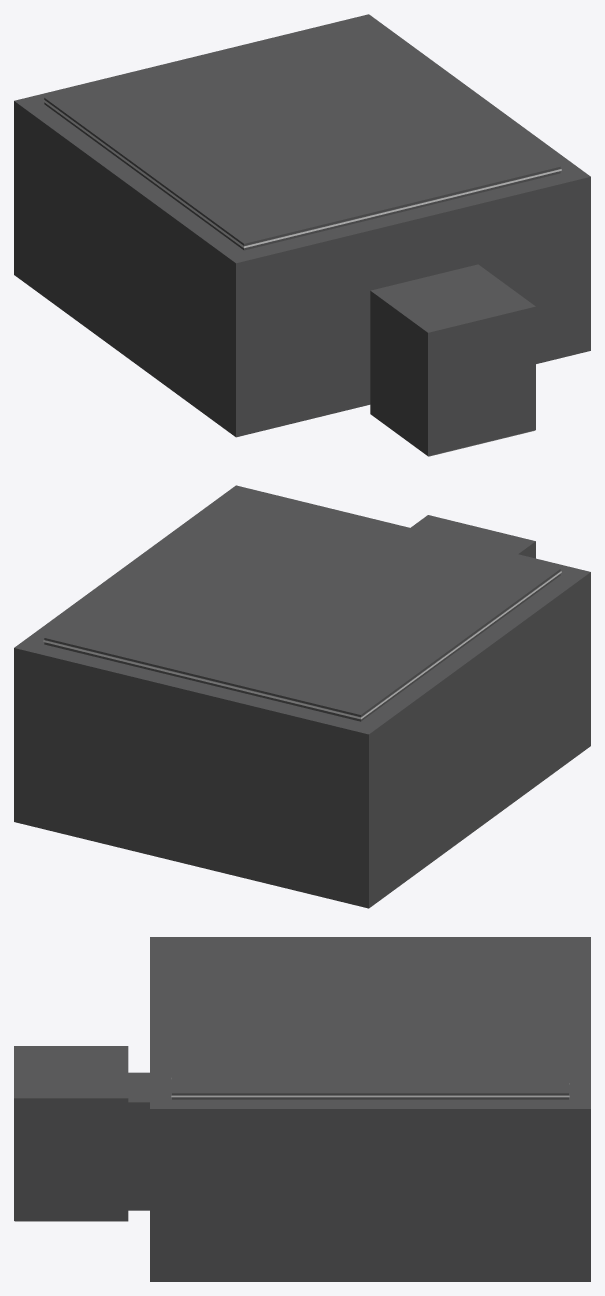
File: casino.fbx
The picture shows the model from 3 angles, top to bottom: view 1: azimuth 30°, elevation 25°; view 2: azimuth 150°, elevation 25°; view 3: azimuth 270°, elevation 25°; orthographic projection.
Parts seen in each view (by area): view 1: Plane; view 2: Plane; view 3: Plane.
Part boxes in pixels (x1,y1,x2,y2): Plane: (14, 14, 590, 456); Plane: (14, 485, 590, 908); Plane: (14, 937, 590, 1281).
Bounding box in the file's own units: 8.27 × 4.02 × 11.72.
